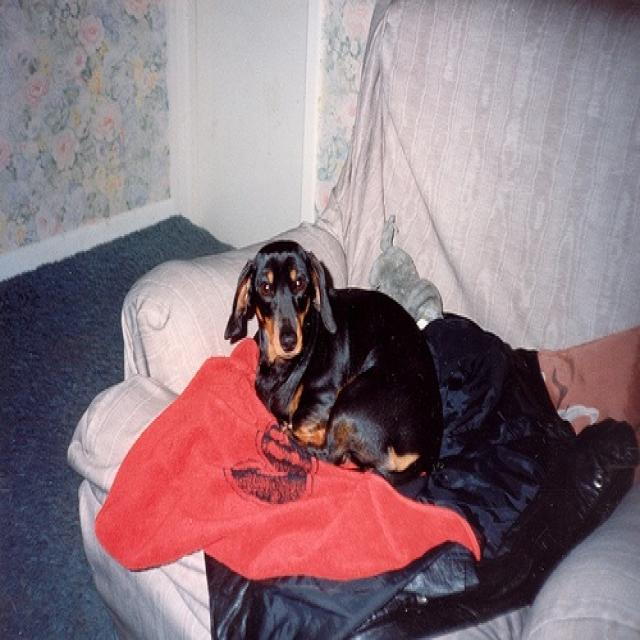chair: (66, 4, 638, 636)
dog: (223, 234, 439, 478)
